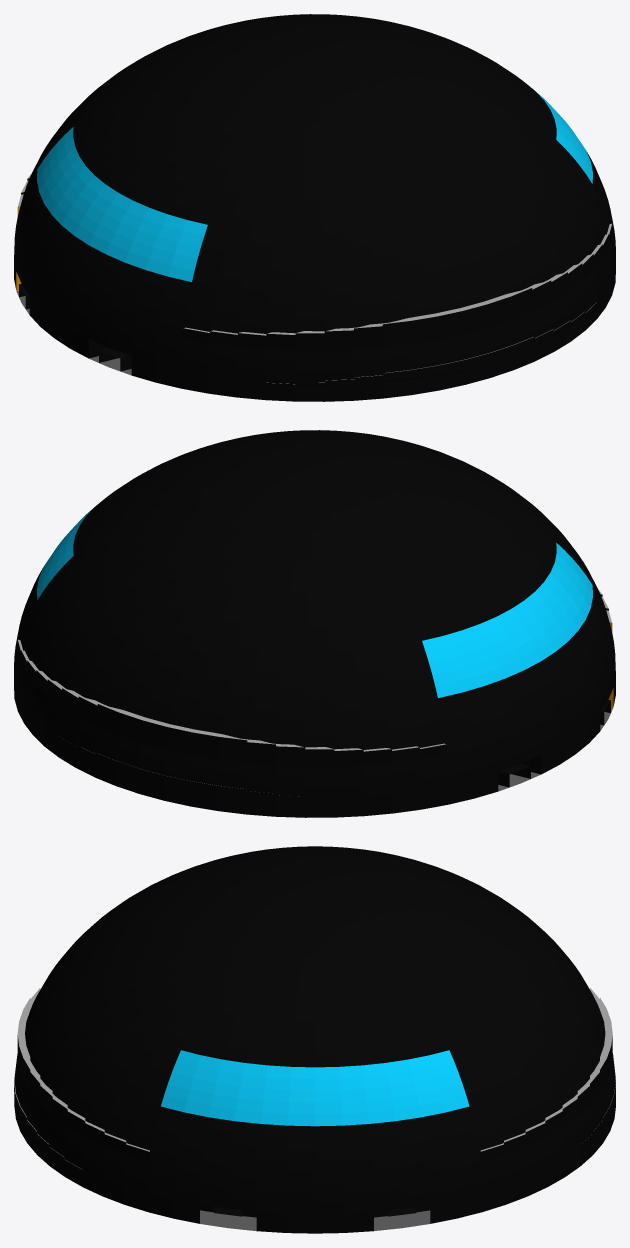
The model's file is TheDome_Stadium1.fbx.
3 renders of one model, top to bottom at view 1: azimuth 30°, elevation 25°; view 2: azimuth 150°, elevation 25°; view 3: azimuth 270°, elevation 25°, orthographic.
Visible parts, largest first — view 1: Sphere; view 2: Sphere; view 3: Sphere.
Part boxes in pixels (x1,y1,x2,y2): Sphere: (14,14,615,401); Sphere: (14,430,615,817); Sphere: (14,846,615,1233).
Bounding box in the file's own units: 28000 × 11500 × 28020.
